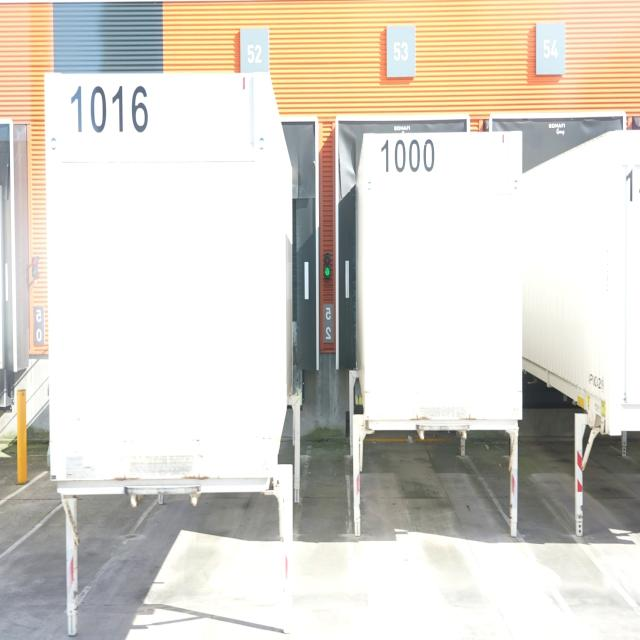Code: (66, 80, 152, 144), (378, 133, 442, 182)
